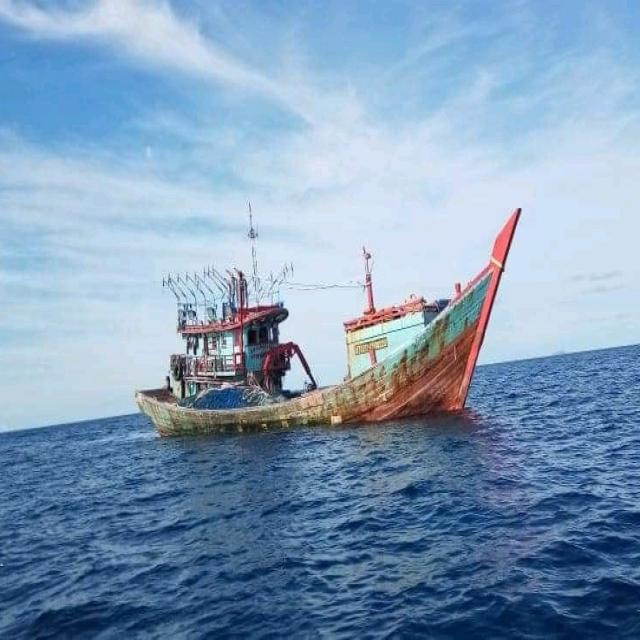Fishing Boat: (96, 124, 527, 444)
